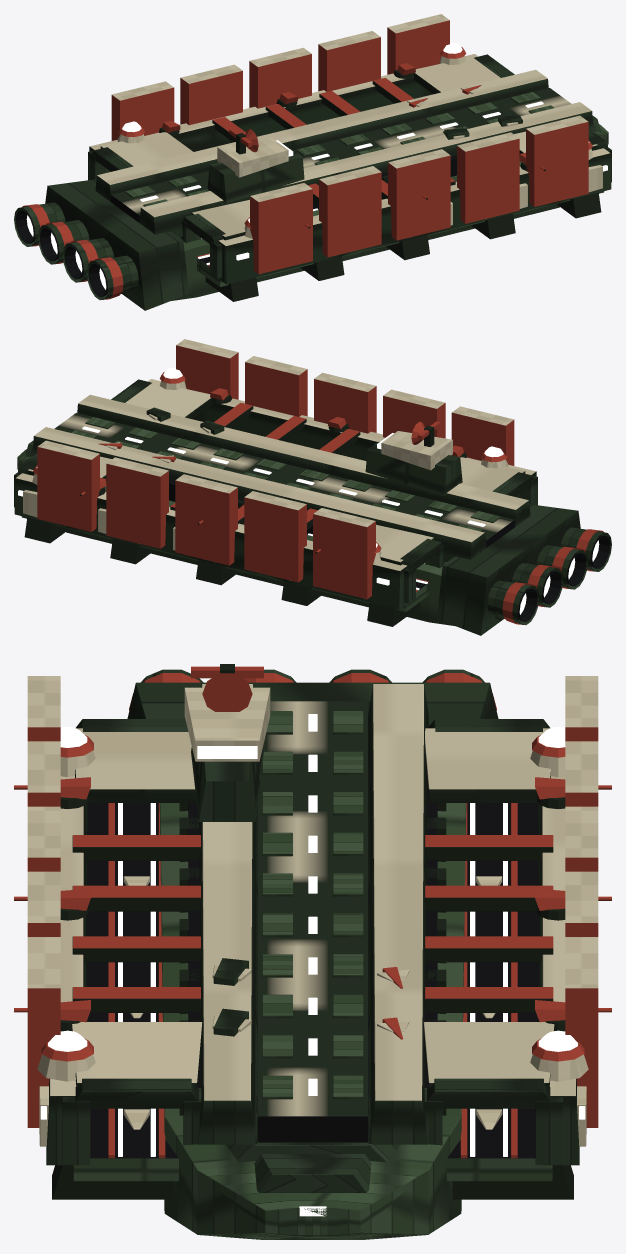
File: carrier.glb
3 views of the same model, one above another, from view 1: azimuth 30°, elevation 25°; view 2: azimuth 150°, elevation 25°; view 3: azimuth 270°, elevation 25° (orthographic). The views are drawn at different scales.
Parts seen in each view (by area): view 1: hull_body, engine_block, sensor_island, shield_domes, weapon_turrets; view 2: hull_body, engine_block, sensor_island, shield_domes, weapon_turrets; view 3: hull_body, sensor_island, engine_block, shield_domes, weapon_turrets.
Part boxes in pixels (box(x1,y1,x2,y2)): hull_body: box(88, 14, 611, 301); engine_block: box(14, 179, 188, 310); sensor_island: box(207, 128, 304, 203); shield_domes: box(117, 42, 593, 238); weapon_turrets: box(159, 63, 545, 228); hull_body: box(14, 339, 537, 626); engine_block: box(437, 504, 611, 635); sensor_island: box(365, 421, 462, 495); shield_domes: box(32, 367, 508, 563); weapon_turrets: box(80, 388, 466, 553); hull_body: box(27, 676, 598, 1239); sensor_island: box(184, 664, 270, 821); engine_block: box(127, 669, 498, 725); shield_domes: box(37, 727, 588, 1081); weapon_turrets: box(14, 777, 611, 1031).
Size of the model in its own units: 55 by 13.7 by 27.45.
Materials: 1 (1 with a texture image).
